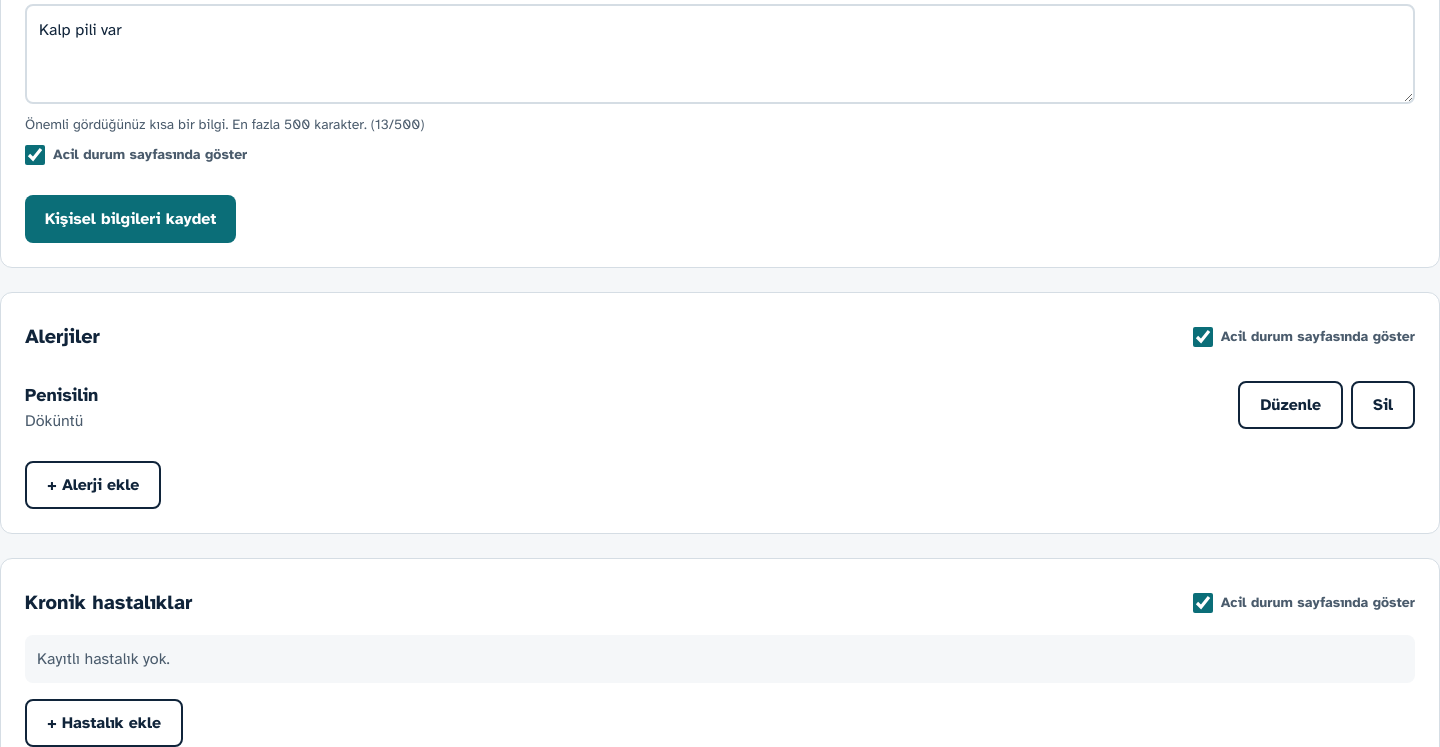
Test: Sağlık profili sayfası › silme önce onay ister; vazgeçince silmez, onaylayınca siler
(page scrolled)
Step 1. Click the button with aria-label "Sil: Penisilin" → click(1383, 405), box [1351, 381, 1415, 429]
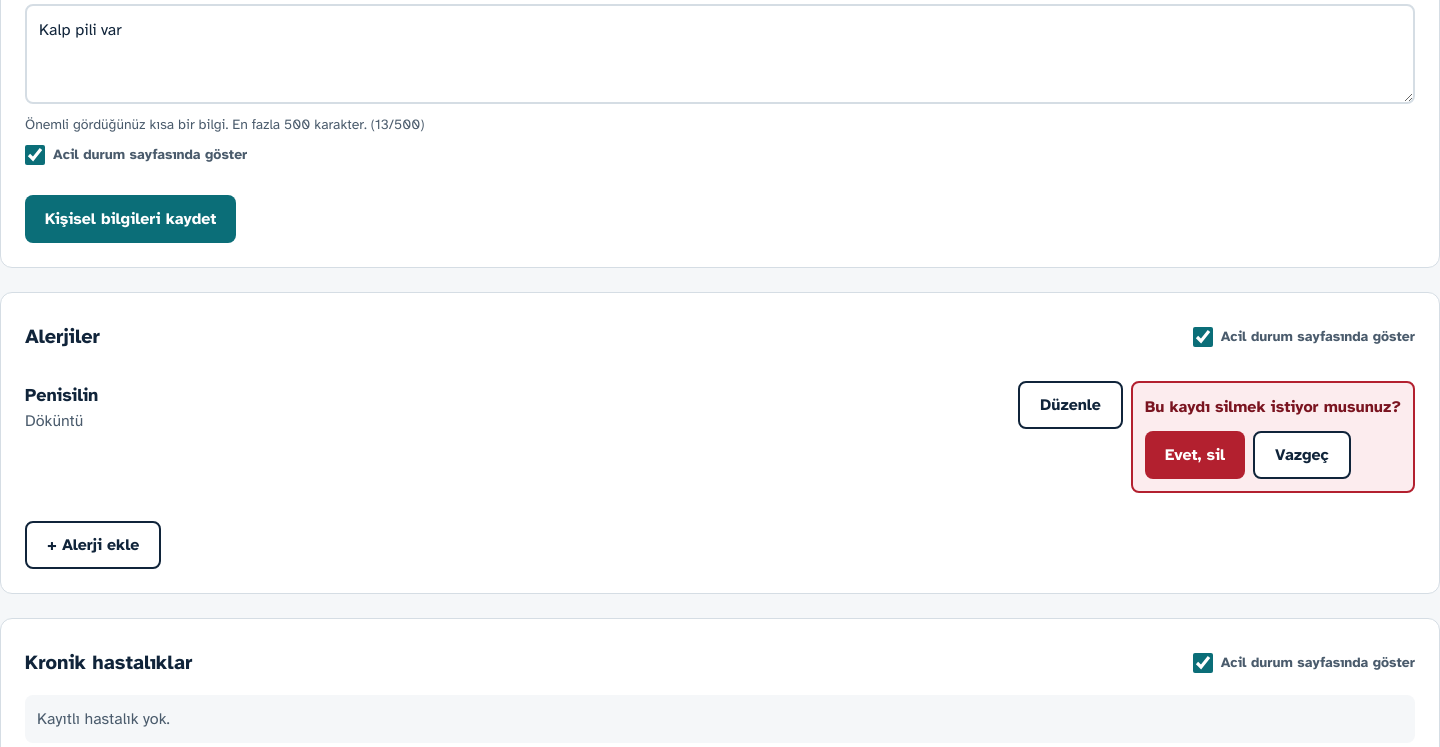
Expected: the text "Bu kaydı silmek istiyor musunuz?" is shown, [1145, 395, 1401, 419]
Step 2. Click the button "Vazgeç" → click(1302, 455), box [1253, 431, 1351, 479]
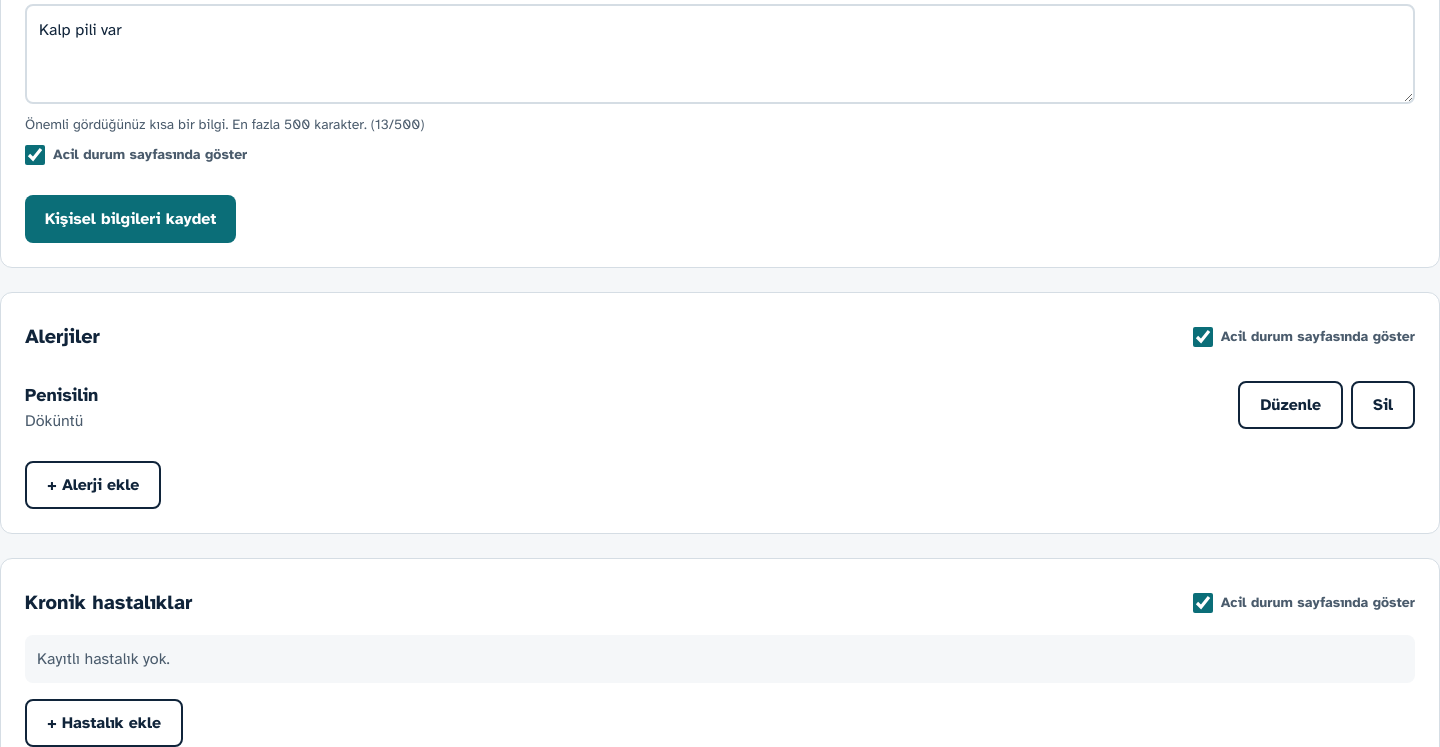
Expected: the text "Penisilin" is shown, [25, 384, 98, 406]
Step 3. Click the button with aria-label "Sil: Penisilin" → click(1383, 405), box [1351, 381, 1415, 429]
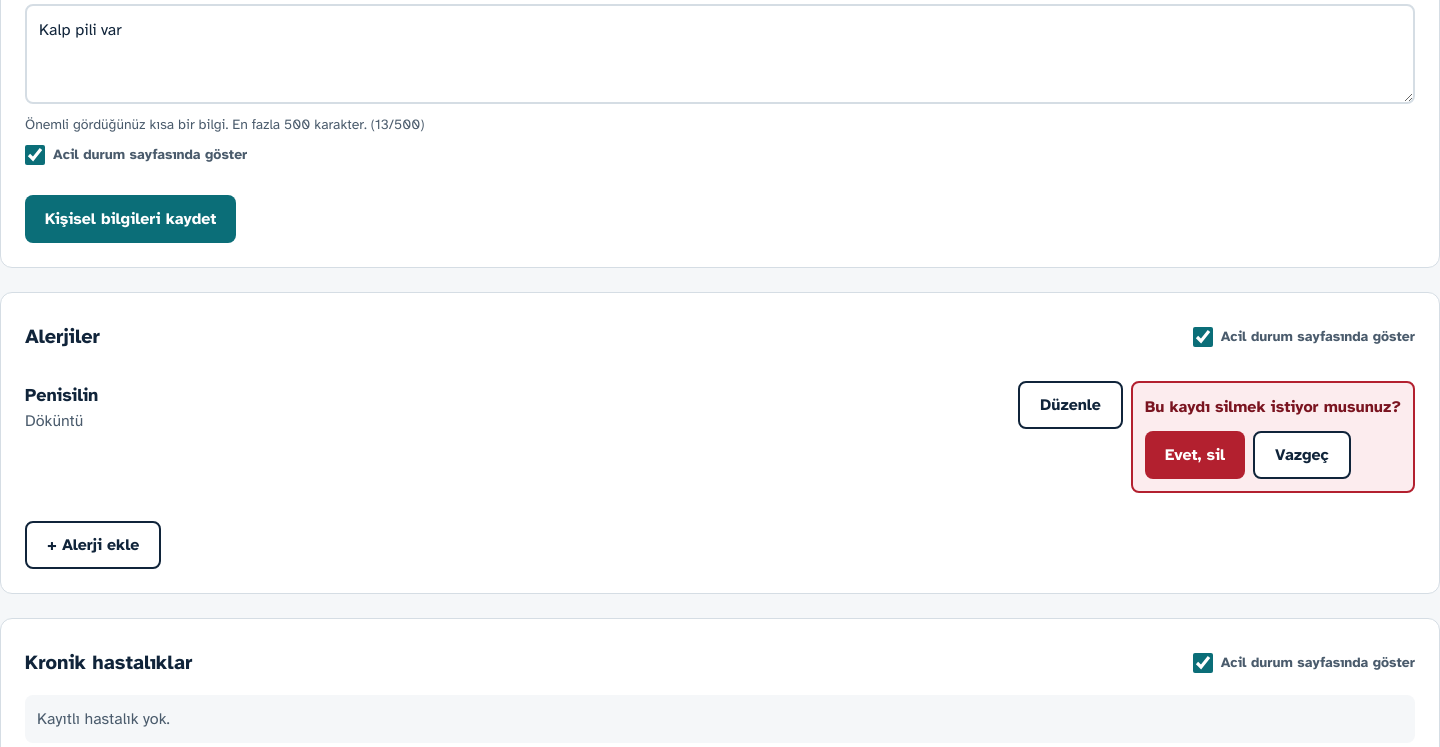
Step 4. Click the button "Evet, sil" → click(1195, 455), box [1145, 431, 1245, 479]
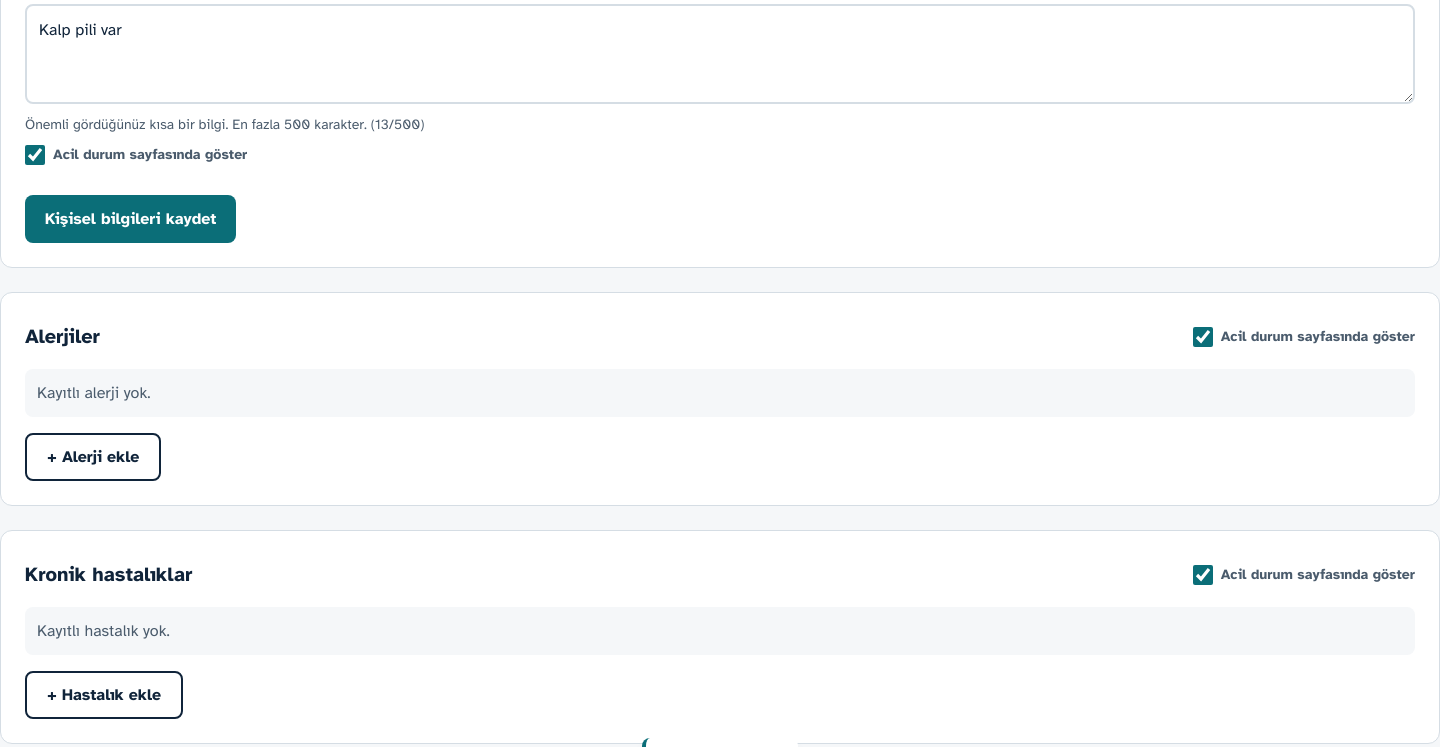
Expected: the text "Penisilin" is gone
Expected: the text "Kayıtlı alerji yok." is shown, [25, 369, 1415, 417]
